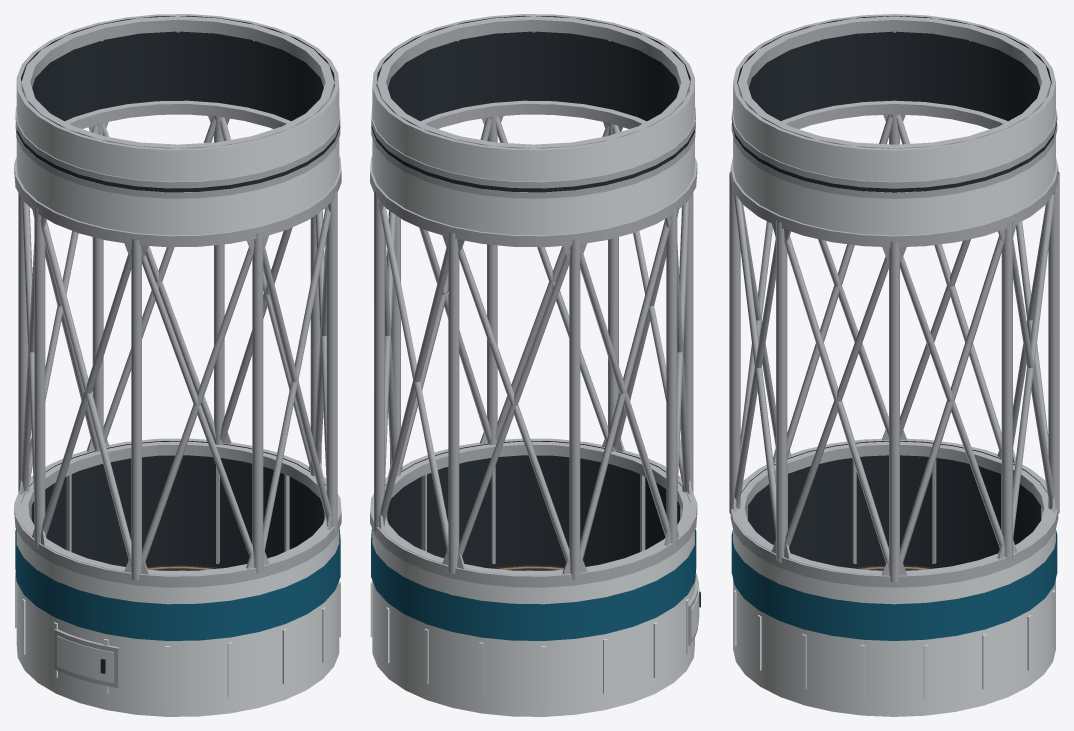
Rendered from interstage_hot_staging_d15.glb.
3 renders of one model, left to right at view 1: azimuth 30°, elevation 25°; view 2: azimuth 150°, elevation 25°; view 3: azimuth 270°, elevation 25°, orthographic.
Parts seen in each view (by area): view 1: interstage_hot_staging_d15_mesh; view 2: interstage_hot_staging_d15_mesh; view 3: interstage_hot_staging_d15_mesh.
Part boxes in pixels (bbox=[...]): interstage_hot_staging_d15_mesh: bbox=[14, 14, 341, 716]; interstage_hot_staging_d15_mesh: bbox=[370, 14, 700, 716]; interstage_hot_staging_d15_mesh: bbox=[729, 14, 1059, 716].
Size of the model in its own units: 1.53 by 2.9 by 1.53.
